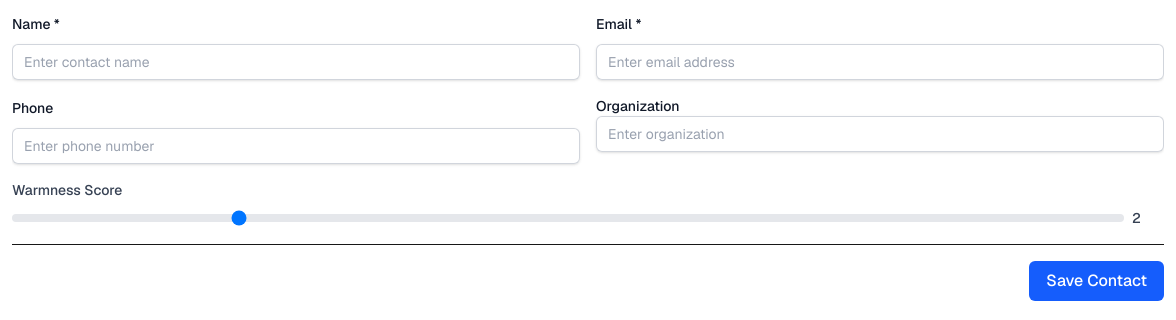
it: ContactForm with Organization Search › Organization Search Functionality › searches both local and Pipedrive organizations
Type "Acme" into the field labelled "Organization" at (880, 134), box [596, 116, 1164, 152]
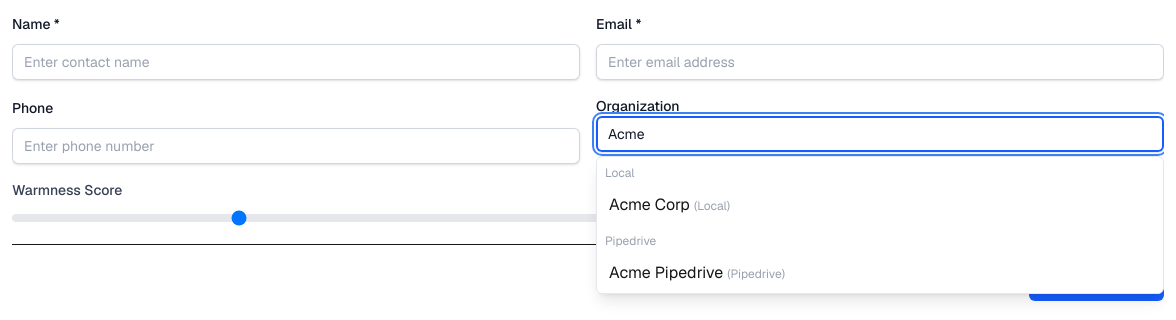
Check: the text "Acme Corp" is shown, box [609, 194, 690, 215]
Check: the text "Acme Pipedrive" is shown, box [609, 262, 723, 283]
